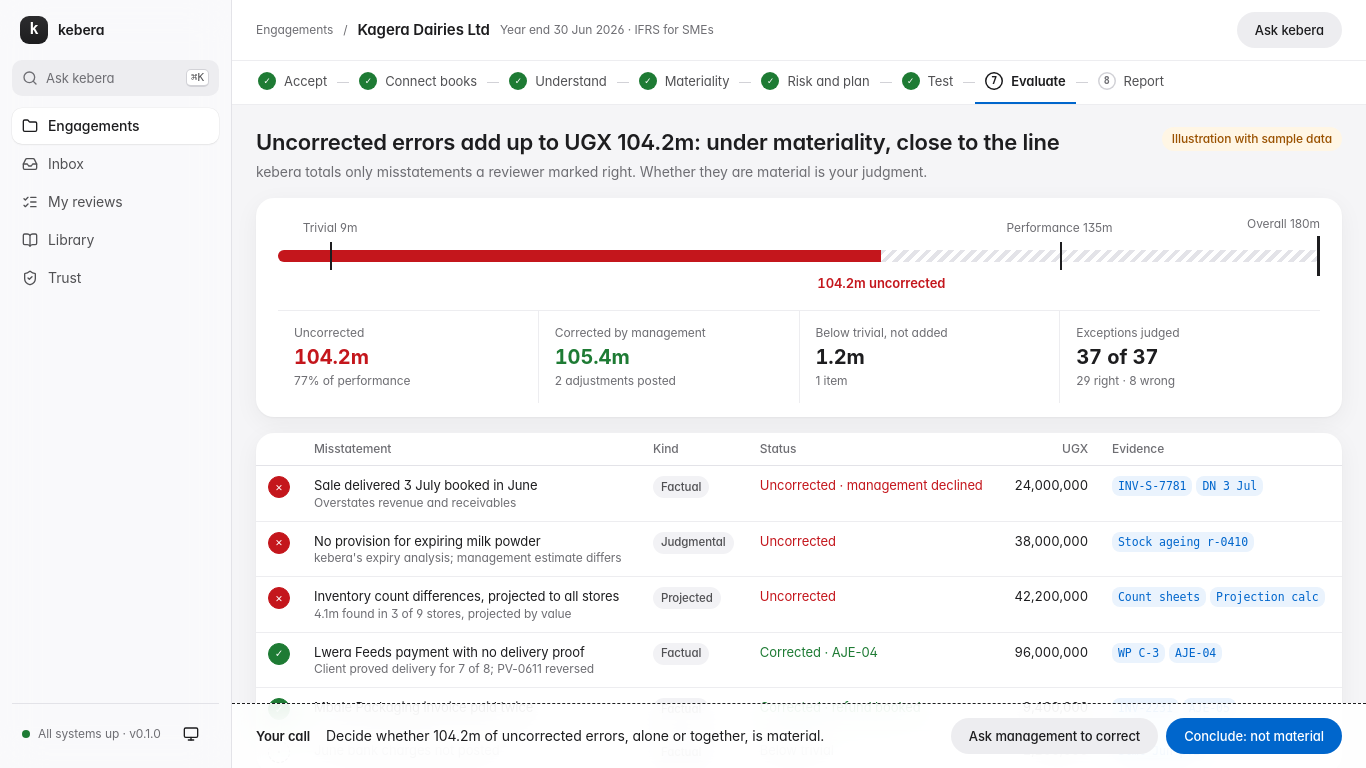
misstatements › totals the uncorrected errors and records the conclusion
expect the heading "Uncorrected errors add up to UGX 104.2m" is shown: met, box [256,127,1060,158]
Click the button "Conclude: not material". click: point(1254, 736)
box: [1166,718,1342,754]
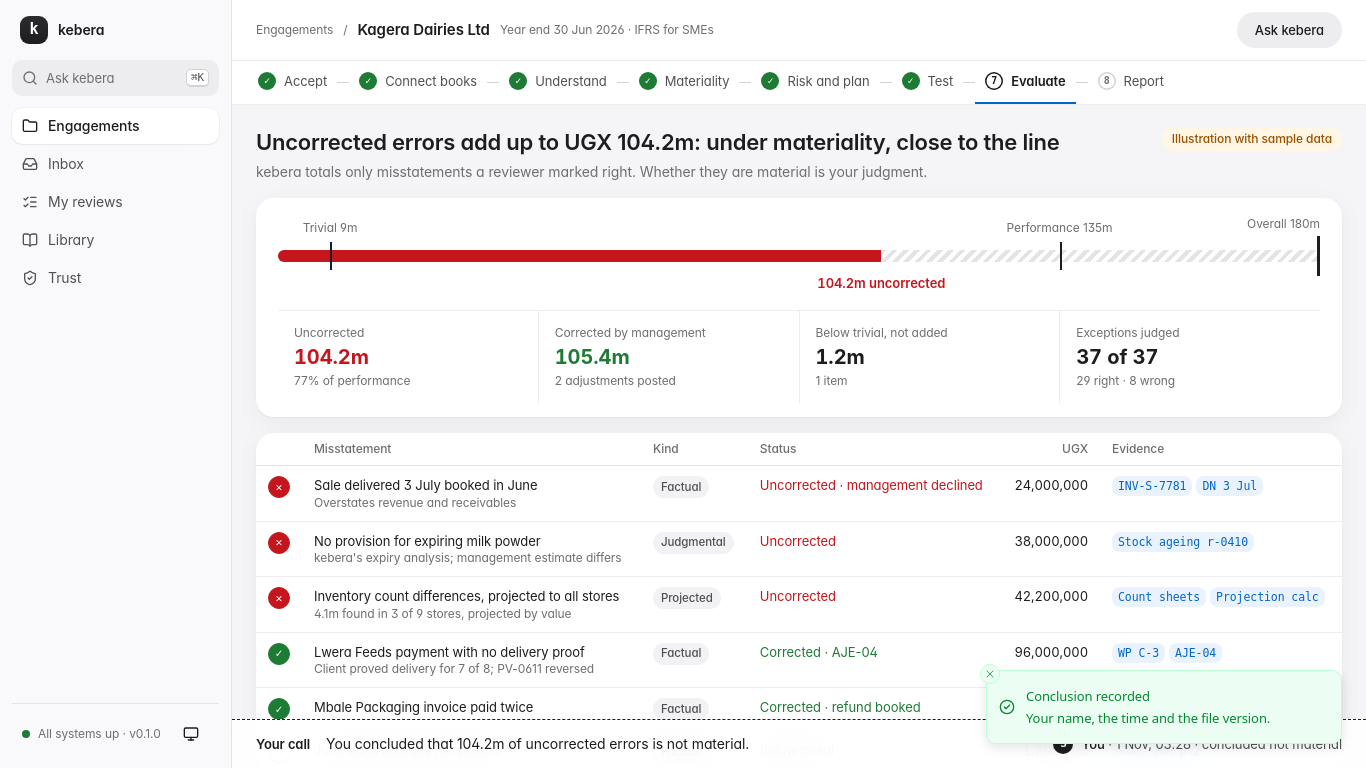
expect the text "You · 1 Nov, 03:28 · concluded not material" is shown: met, box [1082,735,1342,753]
expect the button "Ask management to correct" is gone: met
